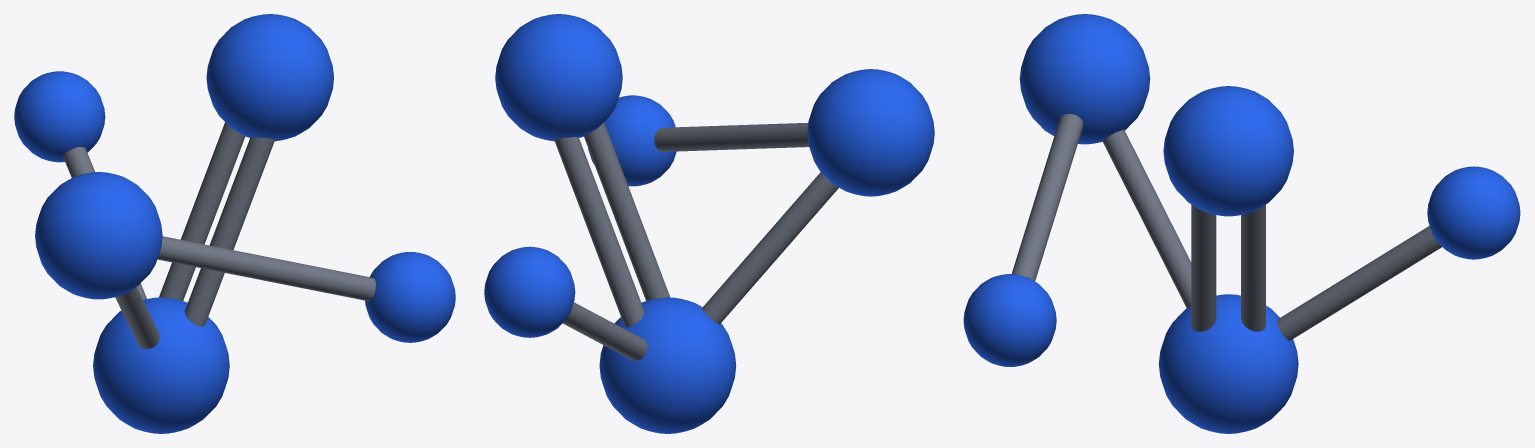
The model's file is hcooh.glb.
3 renders of one model, left to right at view 1: azimuth 30°, elevation 25°; view 2: azimuth 150°, elevation 25°; view 3: azimuth 270°, elevation 25°, orthographic. The views are drawn at different scales.
Parts seen in each view (by area): view 1: C1, O2, O1, H2, H1, object 10, object 6, object 7, object 8, object 9; view 2: C1, O2, O1, H1, object 7, object 8, object 6, H2, object 10, object 9; view 3: C1, O1, O2, H2, H1, object 9, object 8, object 10, object 6, object 7.
Part boxes in pixels (bbox=[...]): C1: bbox=[93, 297, 229, 433]; O2: bbox=[35, 172, 162, 299]; O1: bbox=[206, 14, 333, 141]; H2: bbox=[365, 252, 455, 342]; H1: bbox=[14, 71, 105, 162]; object 10: bbox=[157, 236, 375, 301]; object 6: bbox=[184, 137, 274, 326]; object 7: bbox=[159, 122, 245, 300]; object 8: bbox=[115, 287, 159, 348]; object 9: bbox=[63, 147, 146, 299]; C1: bbox=[599, 297, 736, 433]; O2: bbox=[807, 69, 934, 196]; O1: bbox=[495, 14, 622, 141]; H1: bbox=[484, 246, 575, 337]; object 7: bbox=[554, 137, 644, 326]; object 8: bbox=[702, 172, 838, 324]; object 6: bbox=[584, 122, 669, 300]; H2: bbox=[588, 95, 676, 186]; object 10: bbox=[654, 123, 808, 151]; object 9: bbox=[562, 302, 647, 360]; C1: bbox=[1158, 294, 1298, 433]; O1: bbox=[1163, 86, 1293, 216]; O2: bbox=[1019, 14, 1150, 144]; H2: bbox=[963, 274, 1056, 366]; H1: bbox=[1427, 166, 1520, 259]; object 9: bbox=[1277, 226, 1441, 340]; object 8: bbox=[1102, 129, 1191, 307]; object 10: bbox=[1011, 114, 1083, 280]; object 6: bbox=[1191, 204, 1216, 331]; object 7: bbox=[1241, 204, 1265, 331].
Size of the model in its own units: 0.2808 by 0.2767 by 0.3585.
